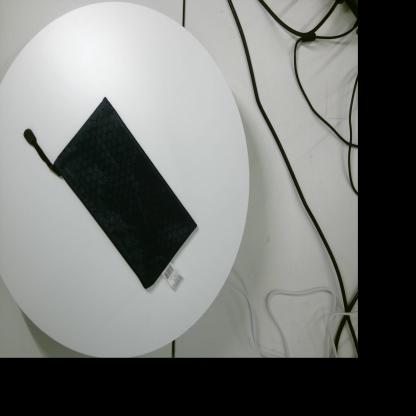Stationery: (23, 96, 198, 292)
